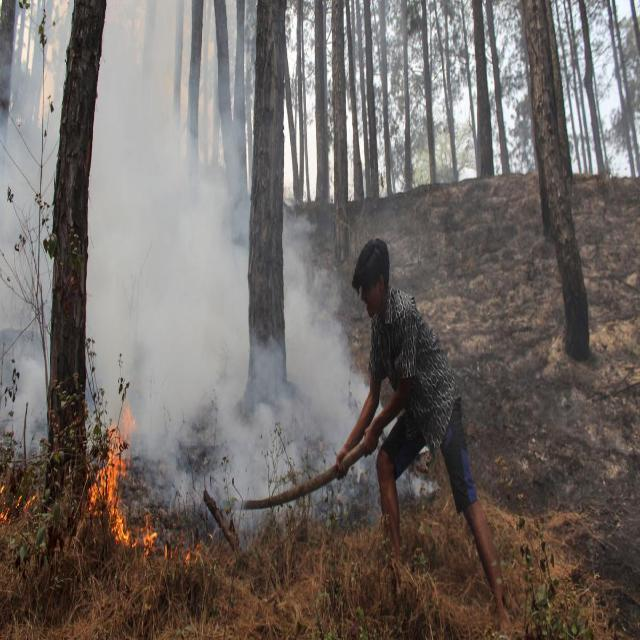Fire: (89, 402, 154, 558), (0, 486, 39, 526), (163, 534, 202, 568)
Smoke: (0, 0, 433, 546)
